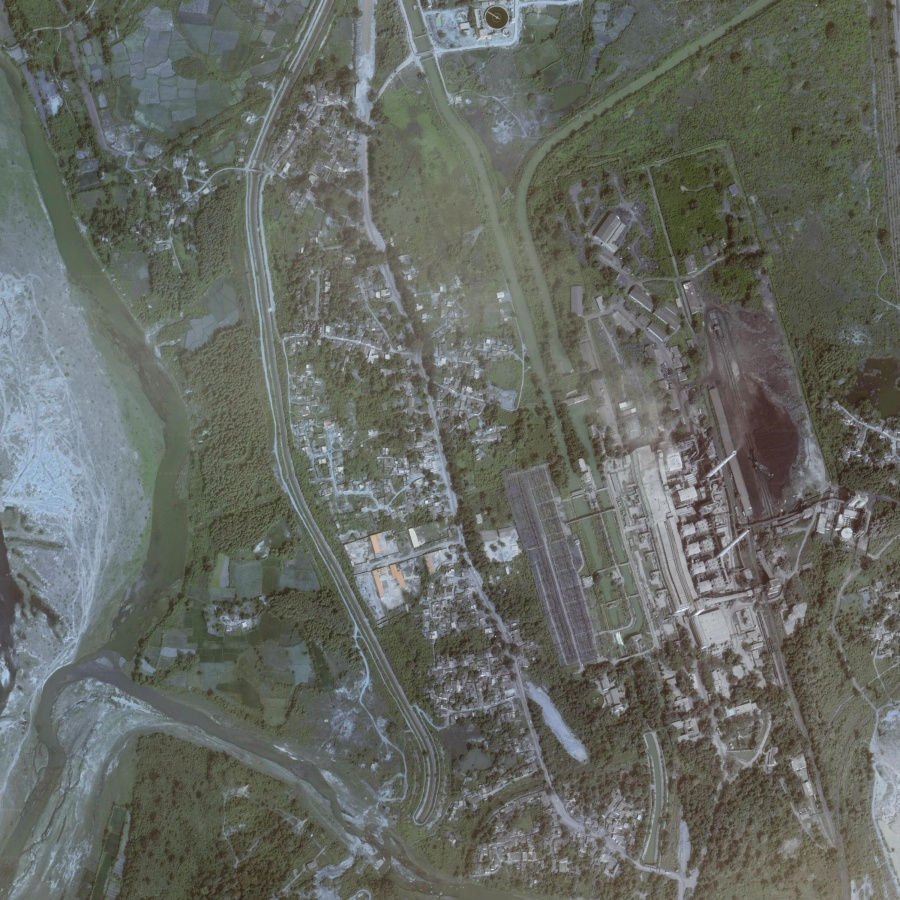PowerPlant: (612, 295, 809, 592)
